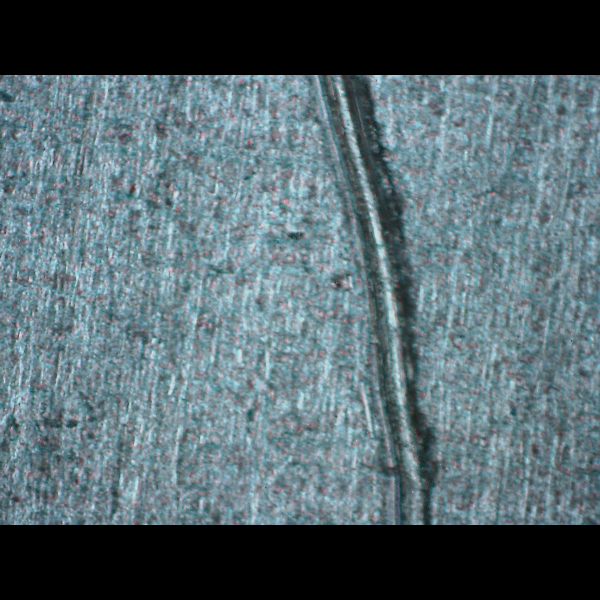d: (304, 75, 439, 525)
